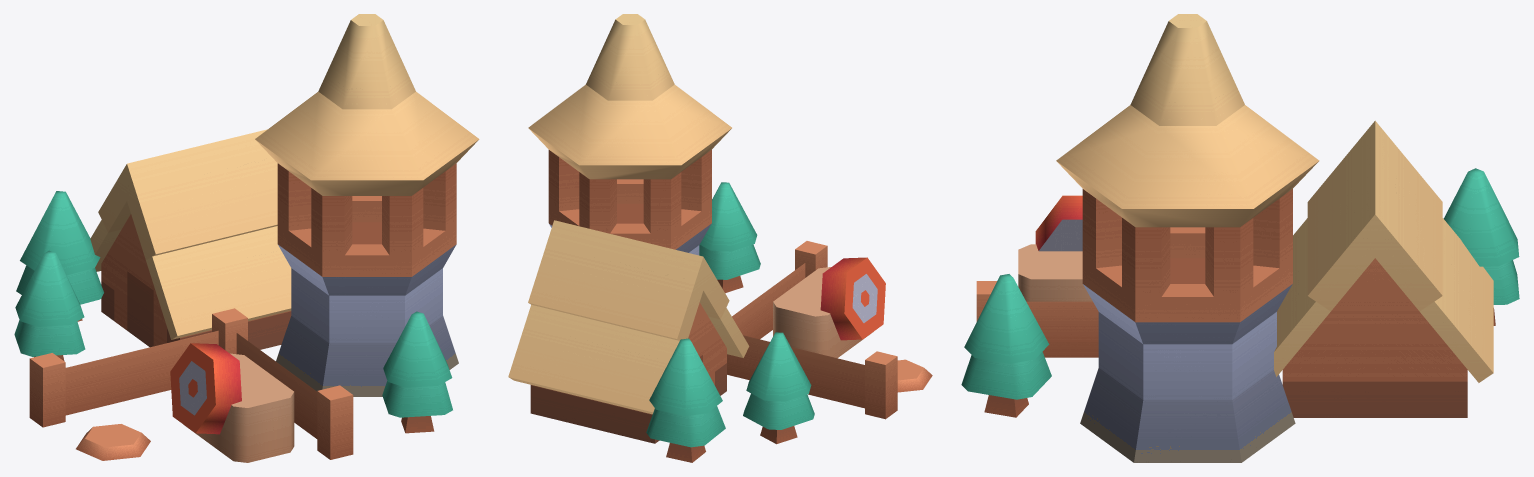
File: hx_building-archery.glb
3 views of the same model, side by side, from view 1: azimuth 30°, elevation 25°; view 2: azimuth 150°, elevation 25°; view 3: azimuth 270°, elevation 25° (orthographic). The views are drawn at different scales.
Bounding box in the file's own units: 0.8632 × 0.72 × 0.9048.
Materials: 1 (1 with a texture image).
